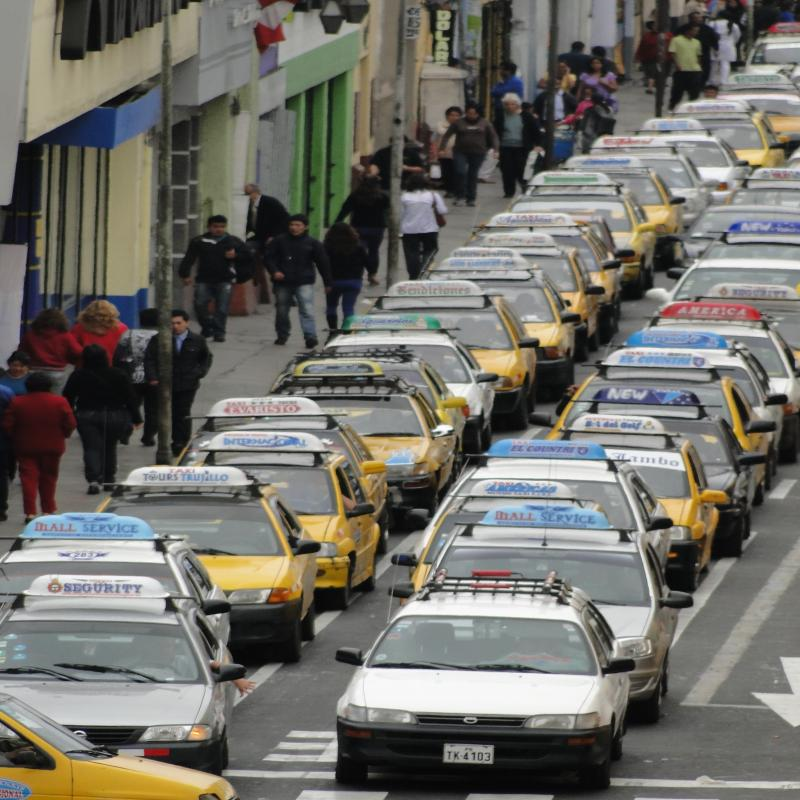car: (334, 595, 623, 788), (0, 577, 228, 767), (99, 452, 317, 647), (16, 500, 211, 664), (201, 406, 361, 584), (451, 526, 660, 662), (423, 464, 613, 594), (269, 371, 440, 497), (337, 332, 470, 430)
